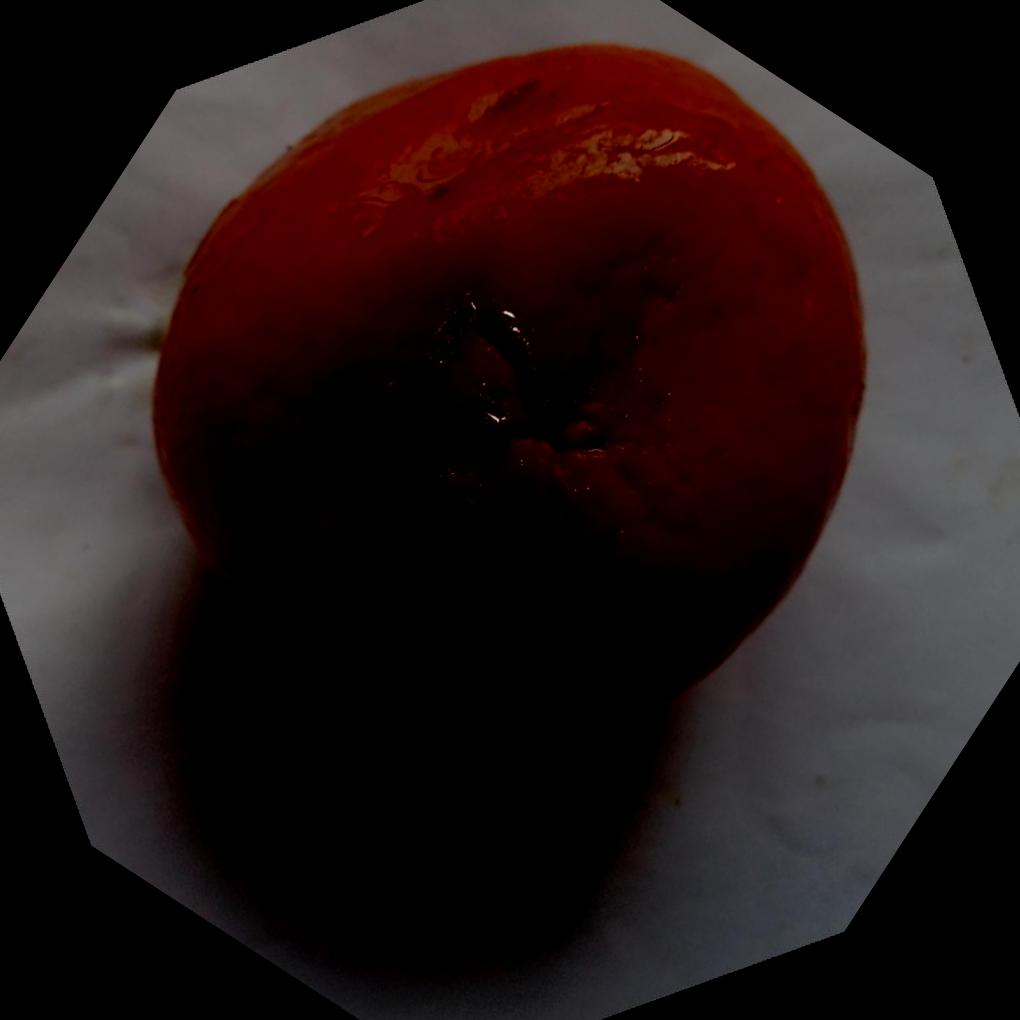FreshOrange: (148, 36, 873, 739)
